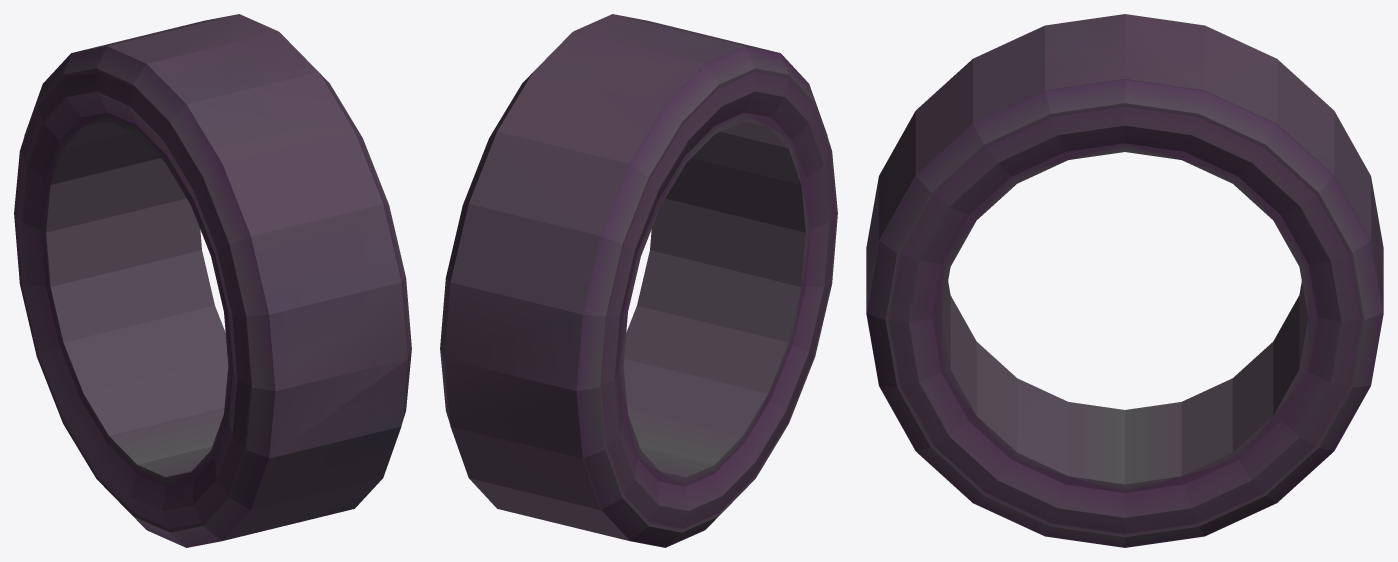
The picture shows the model from 3 angles, left to right: view 1: azimuth 30°, elevation 25°; view 2: azimuth 150°, elevation 25°; view 3: azimuth 270°, elevation 25°; orthographic projection.
Visible parts, largest first — view 1: barrel; view 2: barrel; view 3: barrel.
Boxes of the visible parts, x1,y1,x2,y2 form: barrel: (14,14,411,547); barrel: (440,14,837,547); barrel: (866,14,1383,547).
Bounding box in the file's own units: 0.261 × 0.7 × 0.7.
